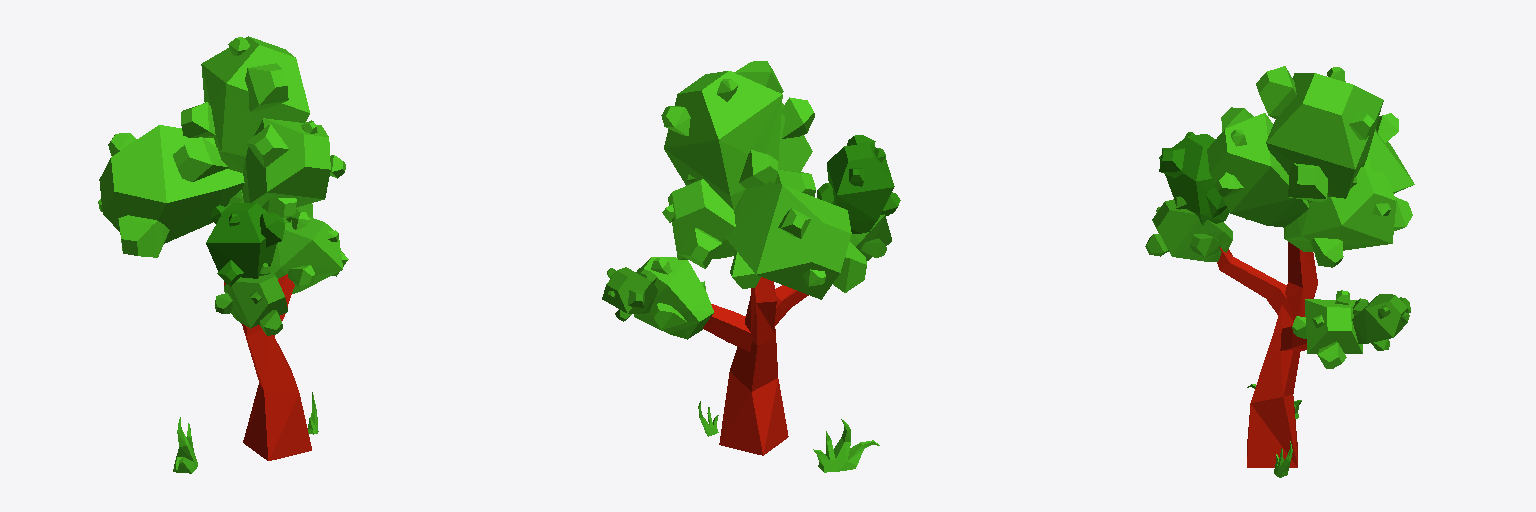
The model's file is tree.obj.
3 views of the same model, side by side, from view 1: azimuth 30°, elevation 25°; view 2: azimuth 150°, elevation 25°; view 3: azimuth 270°, elevation 25° (orthographic).
Visible parts, largest first — view 1: BranchesCBranchesuBranchesbBrancheseBranches.Branches0Branc.005, BranchesCBranchesuBranchesbBrancheseBranches.Branches0Branc.004, BranchesCBranchesuBranchesbBrancheseBranches.Branches0Branc.003, Trunk, BranchesCBranchesuBranchesbBrancheseBranches.Branches0Branches0, BranchesCBranchesuBranchesbBrancheseBranches.Branches0BrancBran, BranchesCBranchesuBranchesbBrancheseBranchesBranch, Plane; view 2: BranchesCBranchesuBranchesbBrancheseBranches.Branches0Branc.004, BranchesCBranchesuBranchesbBrancheseBranches.Branches0Branc.005, Trunk, BranchesCBranchesuBranchesbBrancheseBranches.Branches0Branches0, BranchesCBranchesuBranchesbBrancheseBranches.Branches0Branc.002, BranchesCBranchesuBranchesbBrancheseBranches.Branches0BrancBran, BranchesCBranchesuBranchesbBrancheseBranches.Branches0Branc.001, BranchesCBranchesuBranchesbBrancheseBranches.Branches0Branc.003, Plane, BranchesCBranchesuBranchesbBrancheseBranchesBranch; view 3: BranchesCBranchesuBranchesbBrancheseBranches.Branches0Branc.004, Trunk, BranchesCBranchesuBranchesbBrancheseBranches.Branches0Branc.003, BranchesCBranchesuBranchesbBrancheseBranches.Branches0Branc.002, BranchesCBranchesuBranchesbBrancheseBranches.Branches0Branches0, BranchesCBranchesuBranchesbBrancheseBranchesBranch, BranchesCBranchesuBranchesbBrancheseBranches.Branches0BrancBran, BranchesCBranchesuBranchesbBrancheseBranches.Branches0Branc.001, BranchesCBranchesuBranchesbBrancheseBranches.Branches0Branc.005.
Part boxes in pixels (x1,y1,x2,y2): BranchesCBranchesuBranchesbBrancheseBranches.Branches0Branc.005: (98,125,244,257); BranchesCBranchesuBranchesbBrancheseBranches.Branches0Branc.004: (181,36,309,172); BranchesCBranchesuBranchesbBrancheseBranches.Branches0Branc.003: (242,118,345,217); Trunk: (224,274,311,460); BranchesCBranchesuBranchesbBrancheseBranches.Branches0Branches0: (206,203,284,286); BranchesCBranchesuBranchesbBrancheseBranches.Branches0BrancBran: (270,211,348,293); BranchesCBranchesuBranchesbBrancheseBranchesBranch: (215,263,287,335); Plane: (173,417,197,473); BranchesCBranchesuBranchesbBrancheseBranches.Branches0Branc.004: (661,61,783,209); BranchesCBranchesuBranchesbBrancheseBranches.Branches0Branc.005: (726,170,866,299); Trunk: (703,277,808,455); BranchesCBranchesuBranchesbBrancheseBranches.Branches0Branches0: (817,135,900,233); BranchesCBranchesuBranchesbBrancheseBranches.Branches0Branc.002: (662,174,735,268); BranchesCBranchesuBranchesbBrancheseBranches.Branches0BrancBran: (634,257,713,339); BranchesCBranchesuBranchesbBrancheseBranches.Branches0Branc.001: (602,267,657,321); BranchesCBranchesuBranchesbBrancheseBranches.Branches0Branc.003: (778,97,814,171); Plane: (813,419,879,472); BranchesCBranchesuBranchesbBrancheseBranchesBranch: (850,214,891,260); BranchesCBranchesuBranchesbBrancheseBranches.Branches0Branc.004: (1256,66,1383,201); Trunk: (1217,242,1317,467); BranchesCBranchesuBranchesbBrancheseBranches.Branches0Branc.003: (1207,107,1308,226); BranchesCBranchesuBranchesbBrancheseBranches.Branches0Branc.002: (1283,167,1412,267); BranchesCBranchesuBranchesbBrancheseBranches.Branches0Branches0: (1159,132,1229,225); BranchesCBranchesuBranchesbBrancheseBranchesBranch: (1145,196,1232,261); BranchesCBranchesuBranchesbBrancheseBranches.Branches0BrancBran: (1292,290,1362,368); BranchesCBranchesuBranchesbBrancheseBranches.Branches0Branc.001: (1352,294,1410,350); BranchesCBranchesuBranchesbBrancheseBranches.Branches0Branc.005: (1364,113,1414,193).
Size of the model in its own units: 10.59 by 16.8 by 10.6.